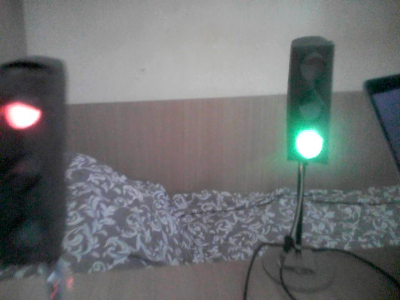trafficlight_green: (288, 43, 329, 160)
trafficlight_red: (1, 63, 58, 261)
